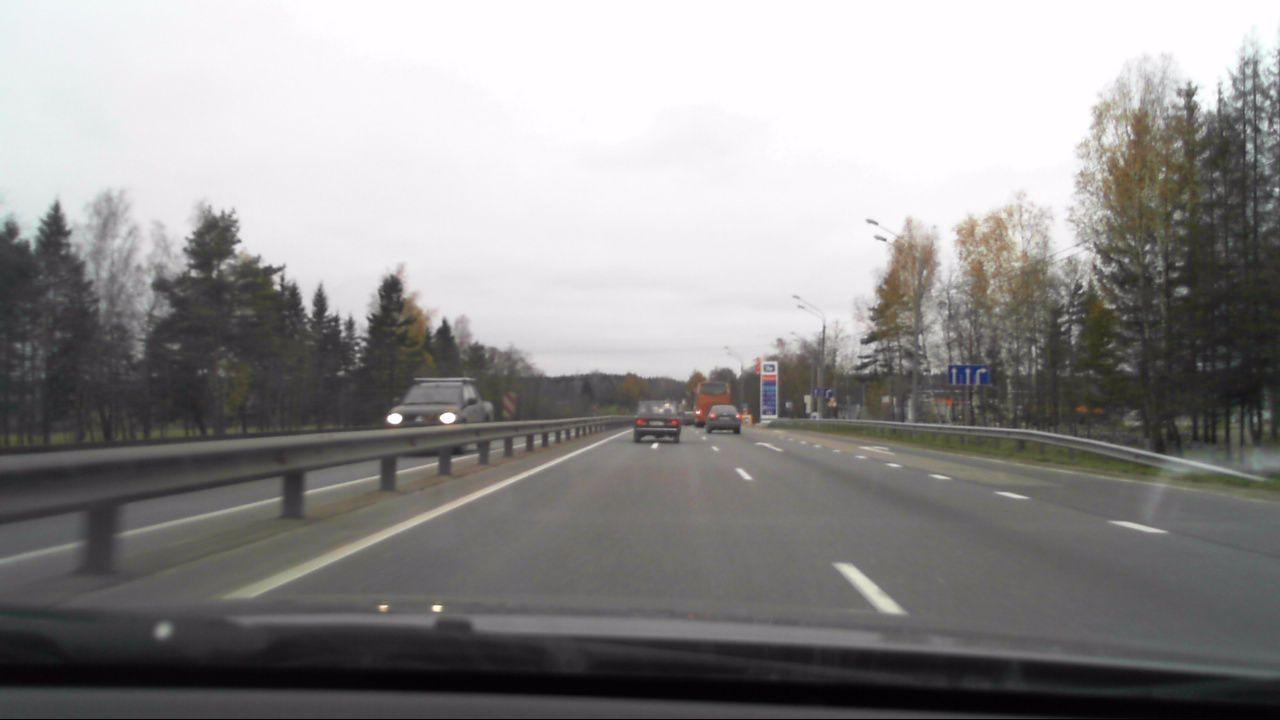5_15_1: (948, 364, 987, 385)
